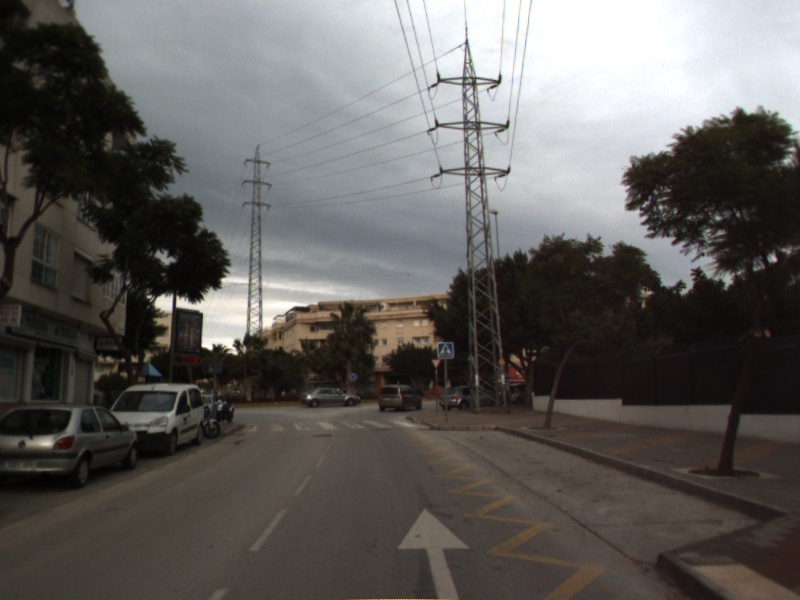STRAIGHT: (395, 504, 477, 600)
